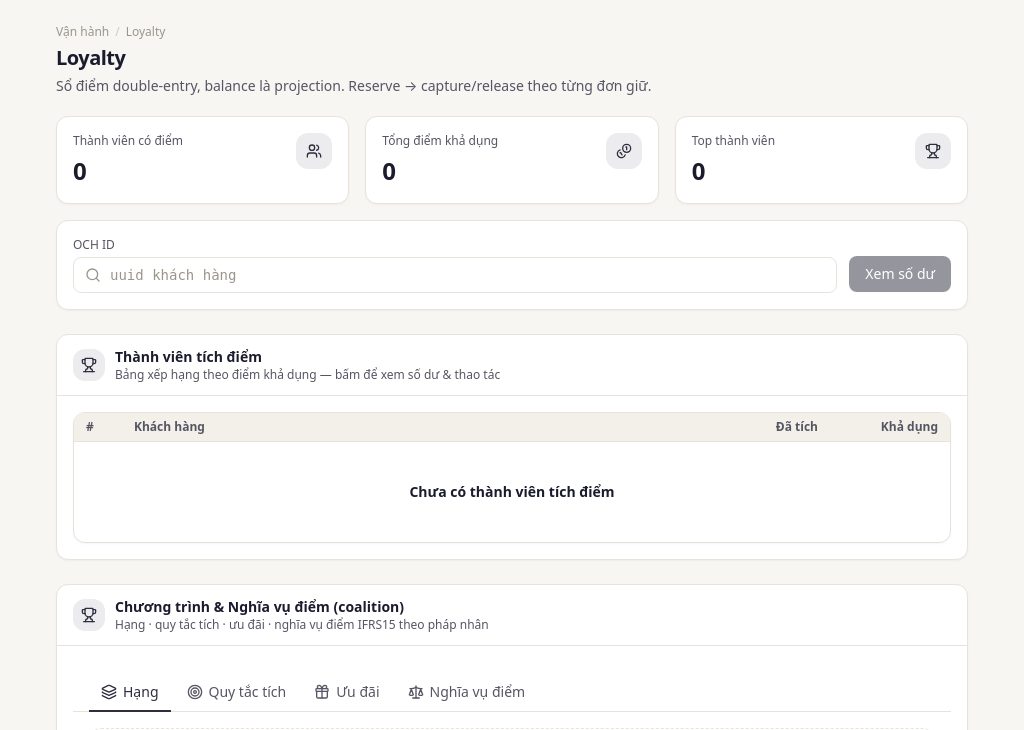
Scenario: LoyaltyScreen › lỗi nghiệp vụ (INSUFFICIENT_BALANCE) khi giữ điểm -> hiển thị thông báo
Type "11111111-1111-1111-1111-111111111111" into the field named "och id" at (455, 275), box [73,257,837,293]
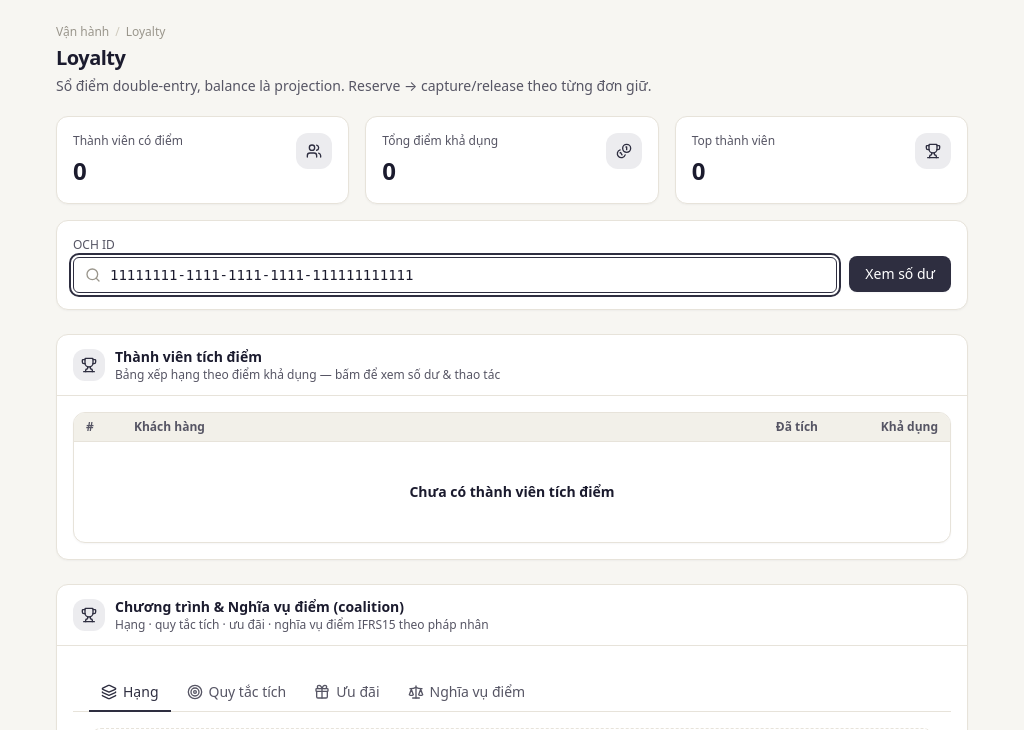
Click the button "Xem số dư" at (900, 274), box [849,256,951,292]
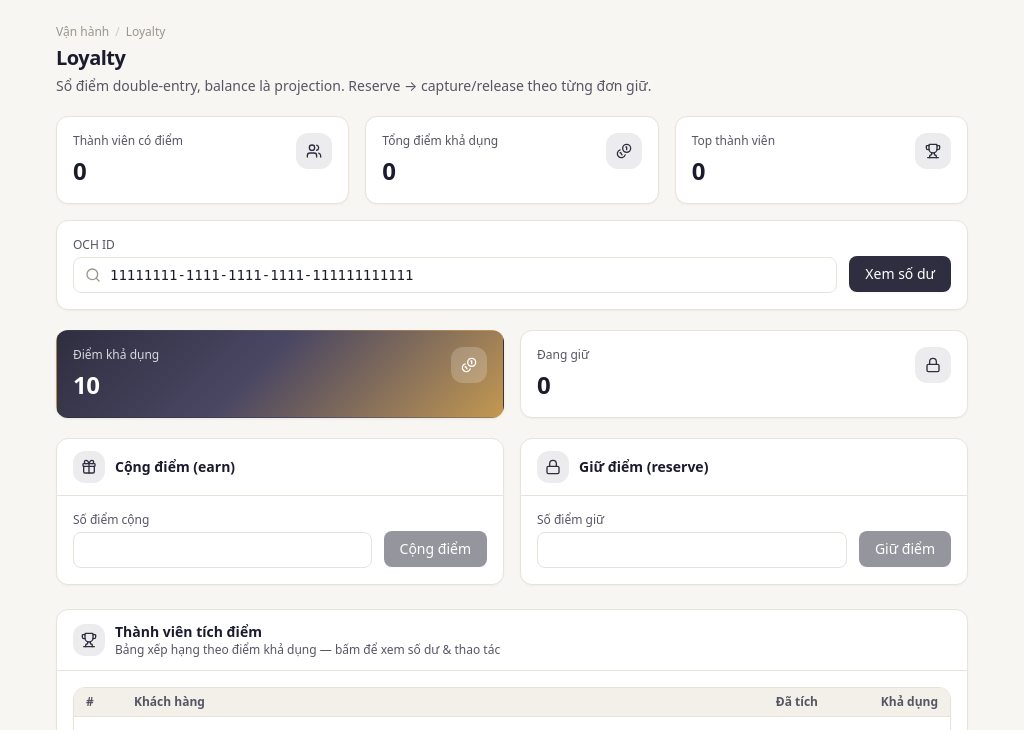
Expected: the text "10" is shown, [73,368,99,401]
Type "100" into the field named "số điểm giữ" at (692, 550), box [537,532,847,568]
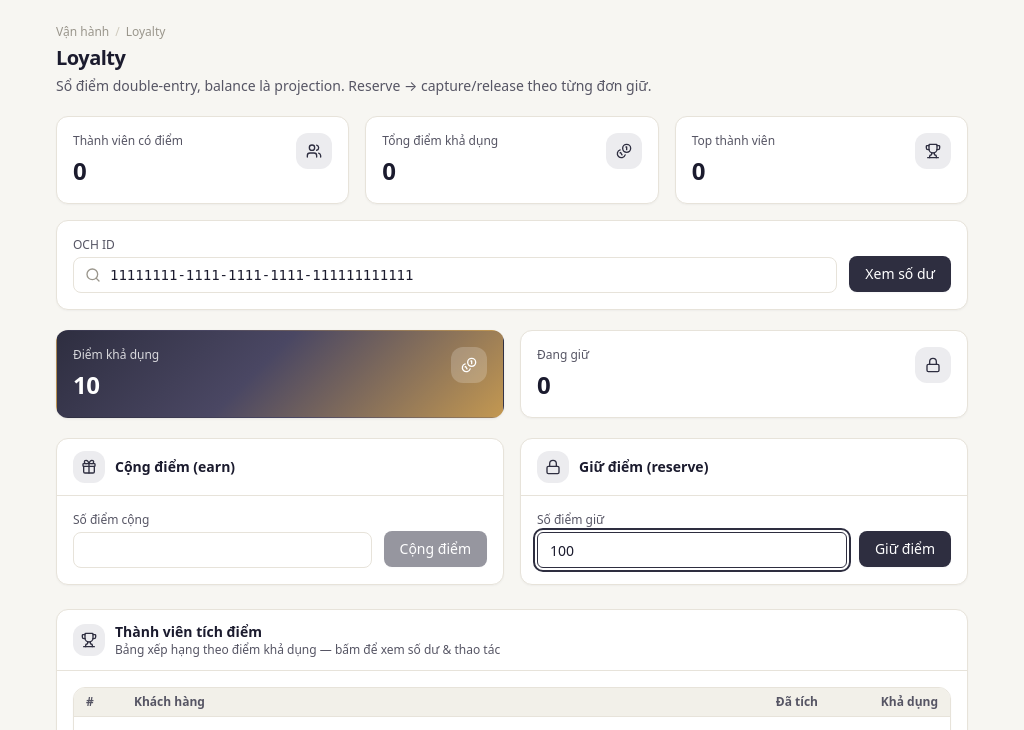
Click the button "Giữ điểm" at (905, 549), box [859,531,951,567]
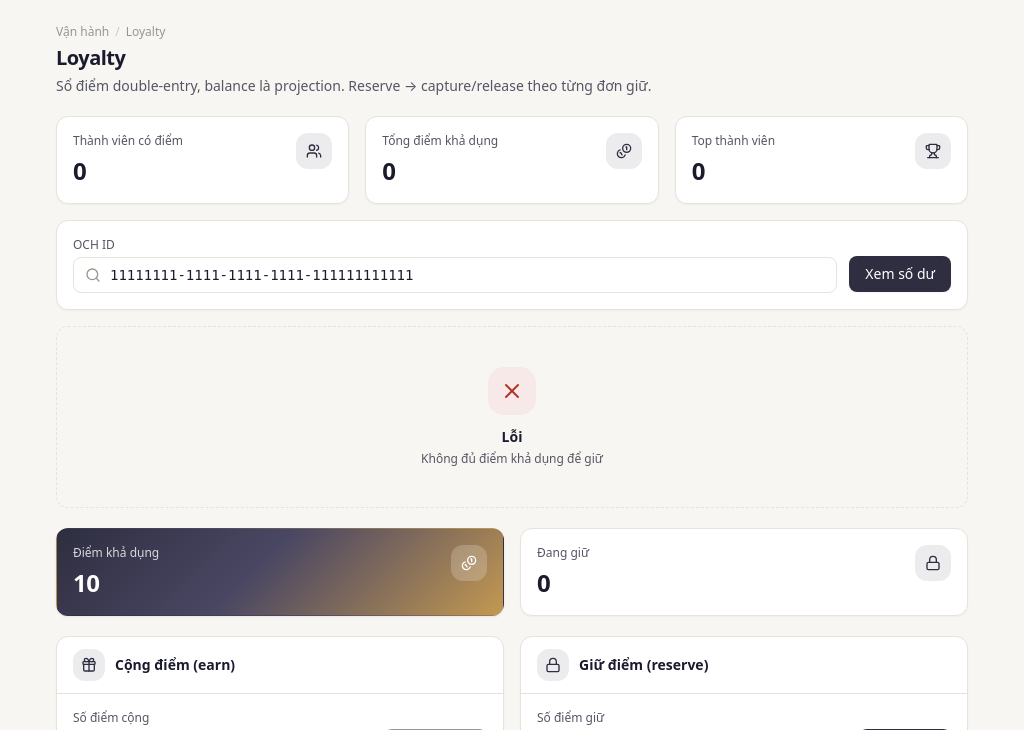
Expected: the text "Không đủ điểm khả dụng để giữ" is shown, [421,451,603,467]
